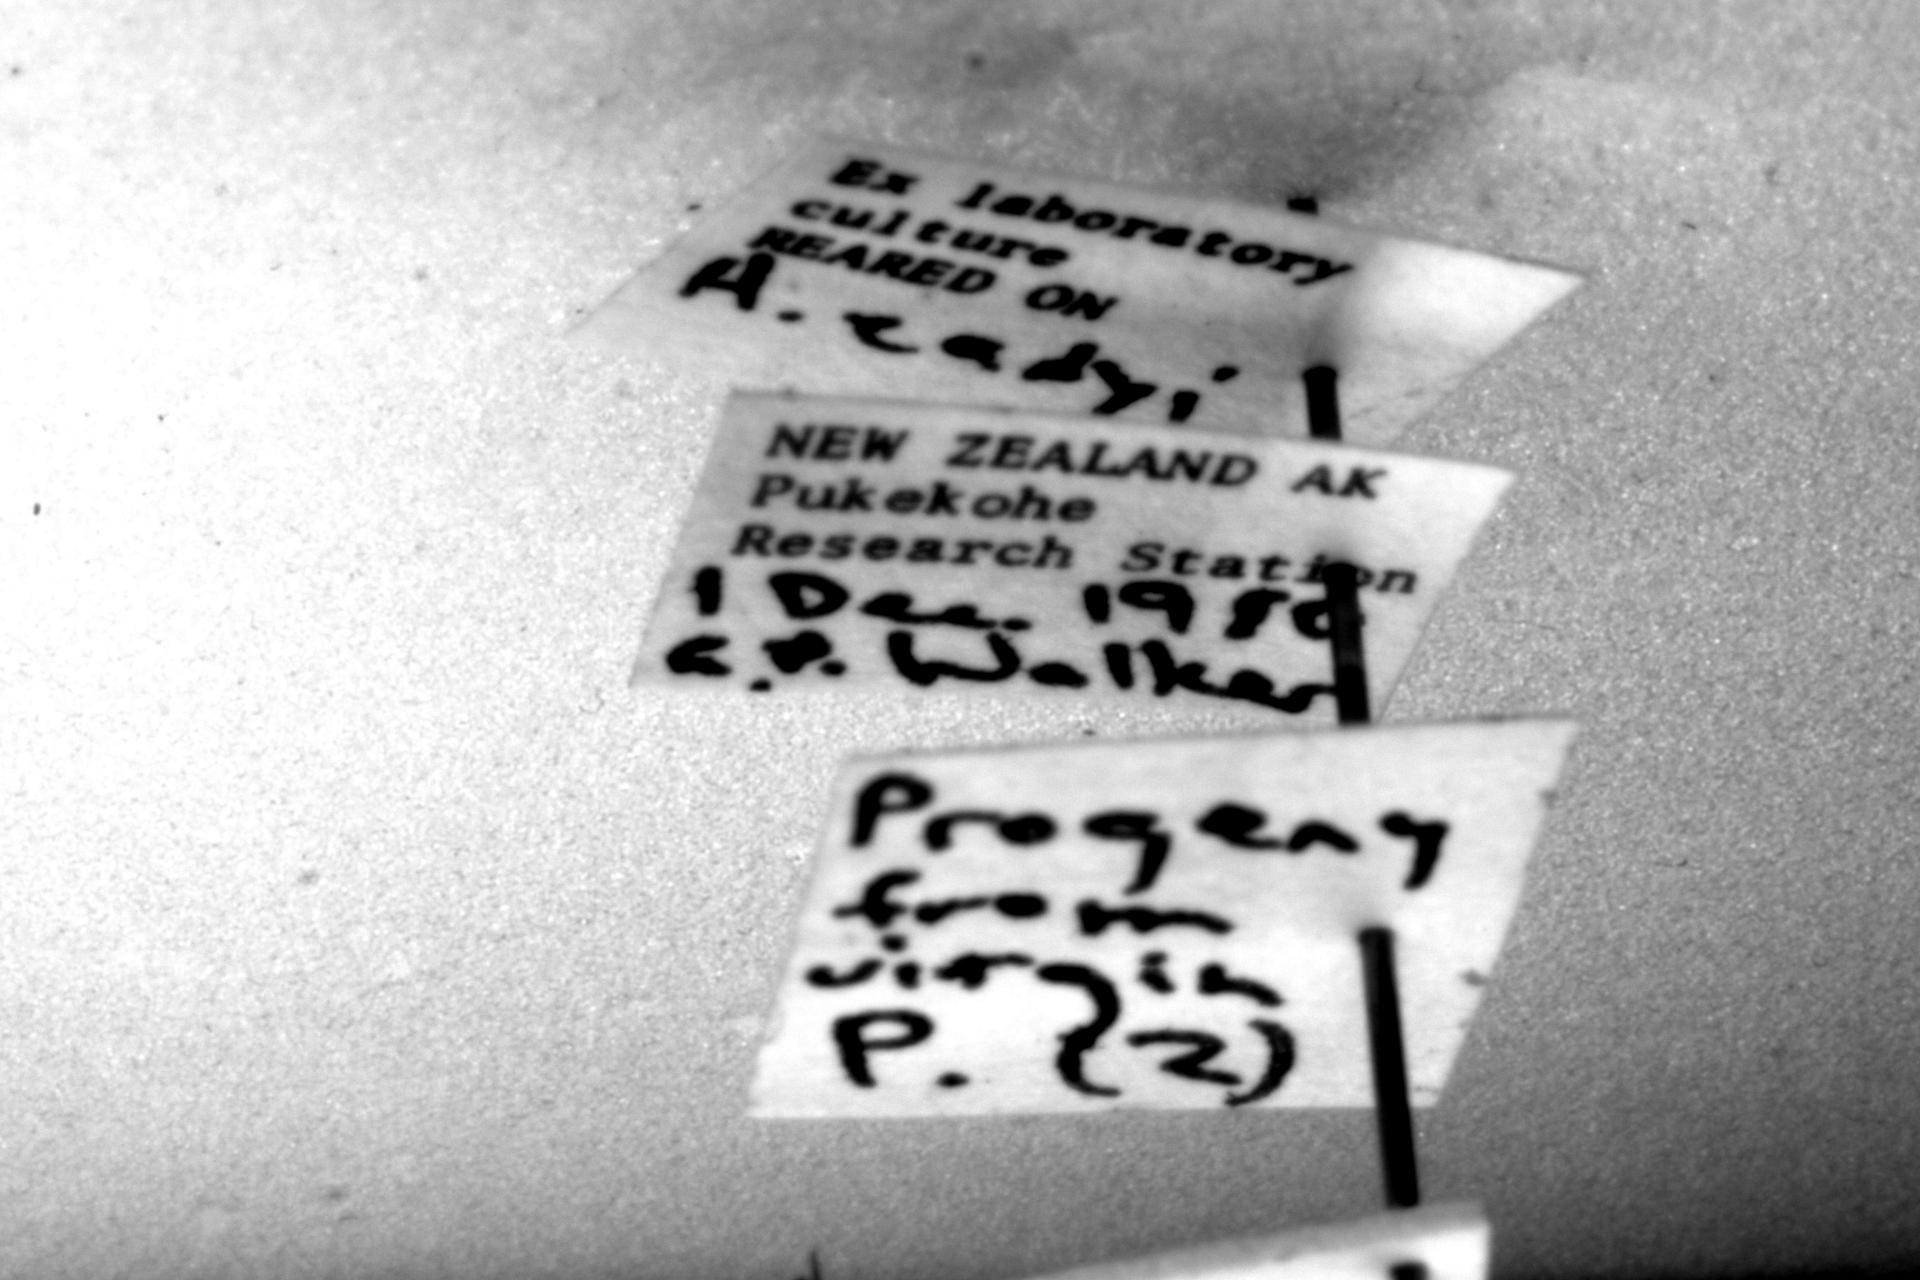hand_label: (746, 716, 1579, 1118)
mixed_label: (570, 135, 1579, 446), (634, 394, 1515, 720)
